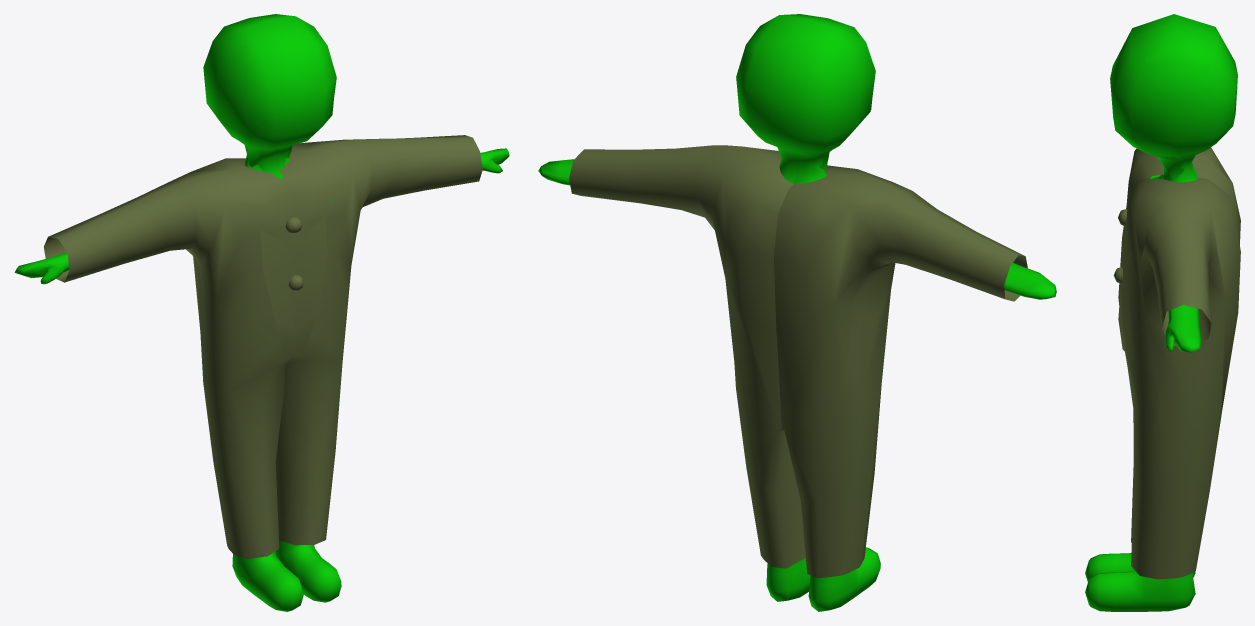
The model's file is asker7.fbx.
3 views of the same model, side by side, from view 1: azimuth 30°, elevation 25°; view 2: azimuth 150°, elevation 25°; view 3: azimuth 270°, elevation 25° (orthographic). The views are drawn at different scales.
Parts seen in each view (by area): view 1: character; view 2: character; view 3: character.
Part boxes in pixels (left/top/right/bottom): character: left=14, top=14, right=509, bottom=611; character: left=538, top=14, right=1056, bottom=611; character: left=1085, top=14, right=1240, bottom=611.
Size of the model in its own units: 1056 by 1146 by 281.
